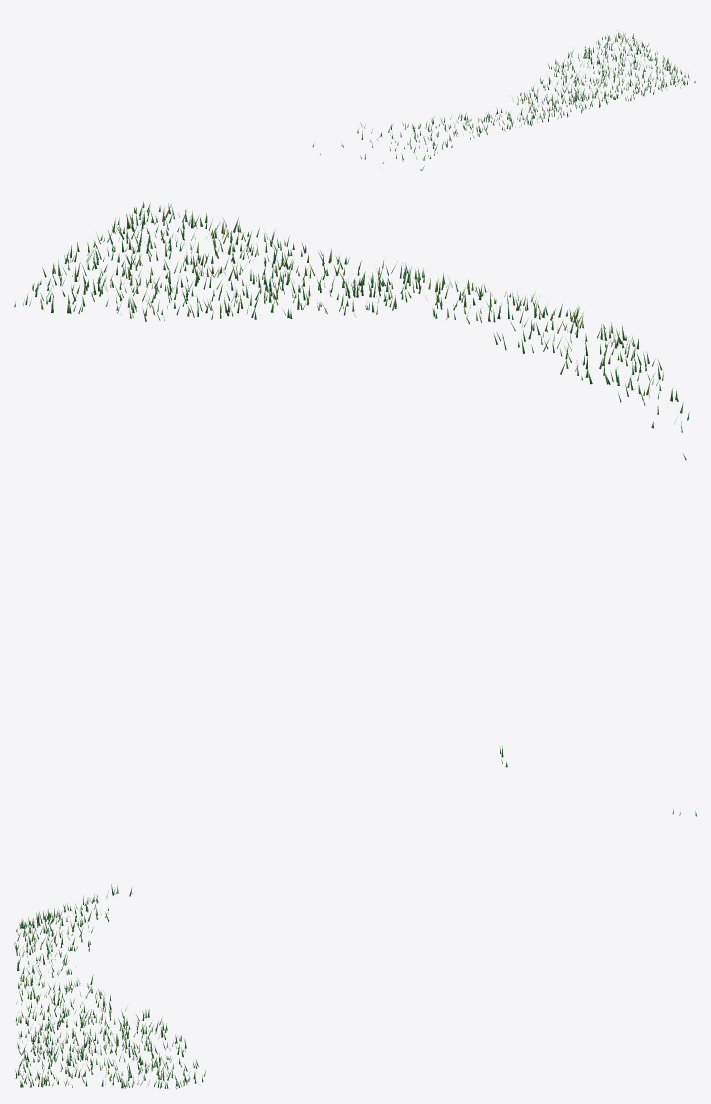
3 views of the same model, one above another, from view 1: azimuth 30°, elevation 25°; view 2: azimuth 150°, elevation 25°; view 3: azimuth 270°, elevation 25° (orthographic). The views are drawn at different scales.
Parts seen in each view (by area): view 1: gc_55; view 2: gc_55; view 3: gc_55.
Part boxes in pixels (left/top/right/bottom): gc_55: left=312, top=30, right=695, bottom=170; gc_55: left=14, top=201, right=689, bottom=767; gc_55: left=14, top=809, right=696, bottom=1089.
Size of the model in its own units: 18.08 by 1.23 by 17.87.
Materials: 1 (1 with a texture image).
